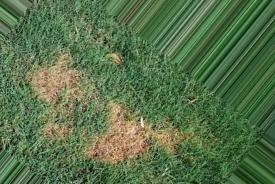patch: (97, 126, 145, 161), (44, 64, 85, 96)
